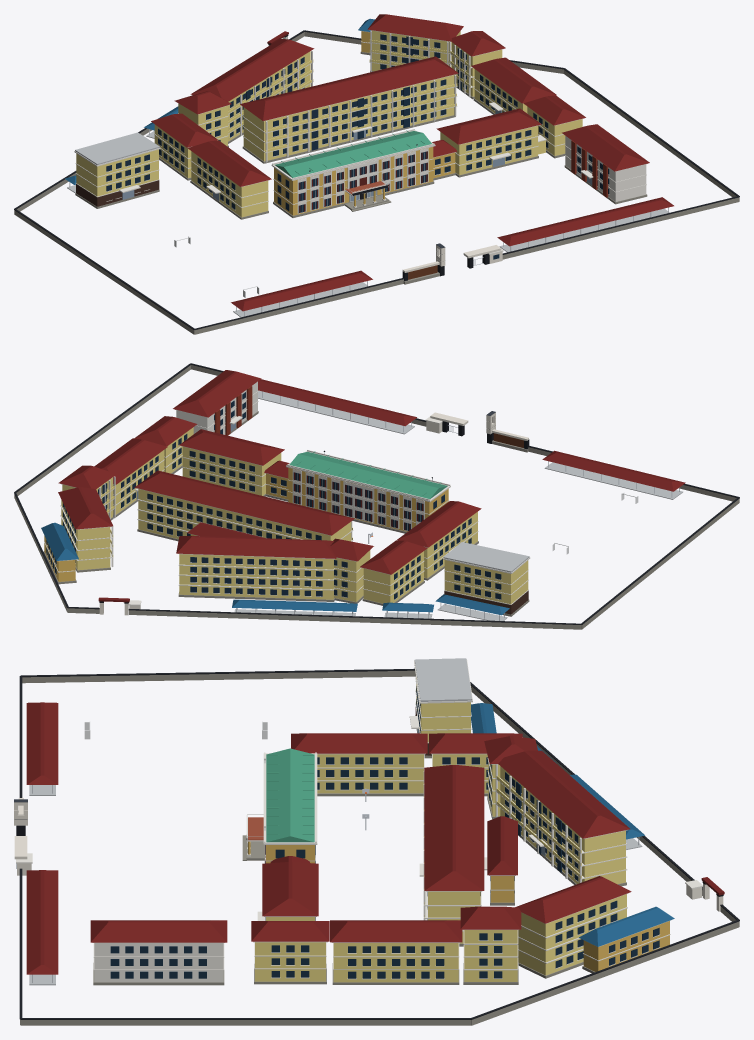
Rendered from husc-campus.glb.
3 renders of one model, top to bottom at view 1: azimuth 30°, elevation 25°; view 2: azimuth 150°, elevation 25°; view 3: azimuth 270°, elevation 25°, orthographic. The views are drawn at different scales.
Parts seen in each view (by area): view 1: bldg_E, bldg_A, prop_perimeter_walls, bldg_D, bldg_H, bldg_A1A2, bldg_G, bldg_C, bldg_K, prop_garage_east, bldg_B, prop_garage_west (+6 smaller); view 2: bldg_H, bldg_E, bldg_A, prop_perimeter_walls, bldg_D, bldg_A1A2, bldg_G, bldg_K, prop_garage_east, bldg_N, bldg_C, prop_garage_west (+11 smaller); view 3: prop_perimeter_walls, bldg_H, bldg_E, bldg_G, bldg_B, bldg_C, bldg_K, bldg_A, bldg_F, bldg_K_lower, bldg_D, prop_garage_east (+10 smaller).
Boxes of the visible parts, left/top/right/bottom form: bldg_E: left=240, top=56, right=458, bottom=163; bldg_A: left=271, top=129, right=435, bottom=217; prop_perimeter_walls: left=14, top=30, right=739, bottom=334; bldg_D: left=74, top=132, right=160, bottom=208; bldg_H: left=190, top=39, right=314, bottom=143; bldg_A1A2: left=436, top=108, right=546, bottom=177; bldg_G: left=562, top=124, right=649, bottom=204; bldg_C: left=188, top=140, right=271, bottom=219; bldg_K: left=367, top=14, right=463, bottom=72; prop_garage_east: left=497, top=197, right=673, bottom=252; bldg_B: left=471, top=57, right=556, bottom=114; prop_garage_west: left=231, top=270, right=372, bottom=317; bldg_H: left=176, top=536, right=336, bottom=601; bldg_E: left=134, top=470, right=354, bottom=541; bldg_A: left=286, top=450, right=450, bottom=533; prop_perimeter_walls: left=14, top=363, right=739, bottom=629; bldg_D: left=443, top=542, right=530, bottom=616; bldg_A1A2: left=179, top=429, right=284, bottom=496; bldg_G: left=173, top=370, right=261, bottom=435; bldg_K: left=58, top=487, right=113, bottom=572; prop_garage_east: left=258, top=379, right=416, bottom=434; bldg_N: left=360, top=540, right=427, bottom=605; bldg_C: left=397, top=501, right=481, bottom=580; prop_garage_west: left=542, top=450, right=685, bottom=499; prop_perimeter_walls: left=19, top=668, right=739, bottom=1025; bldg_H: left=495, top=750, right=630, bottom=886; bldg_E: left=419, top=765, right=484, bottom=946; bldg_G: left=90, top=920, right=227, bottom=985; bldg_B: left=330, top=920, right=462, bottom=984; bldg_C: left=291, top=733, right=427, bottom=796; bldg_K: left=515, top=876, right=631, bottom=978; bldg_A: left=242, top=748, right=317, bottom=863; bldg_F: left=251, top=921, right=329, bottom=984; bldg_K_lower: left=460, top=906, right=521, bottom=984; bldg_D: left=409, top=658, right=472, bottom=758; prop_garage_east: left=26, top=870, right=58, bottom=985.
Bounding box in the file's own units: 193 × 17.39 × 168.
